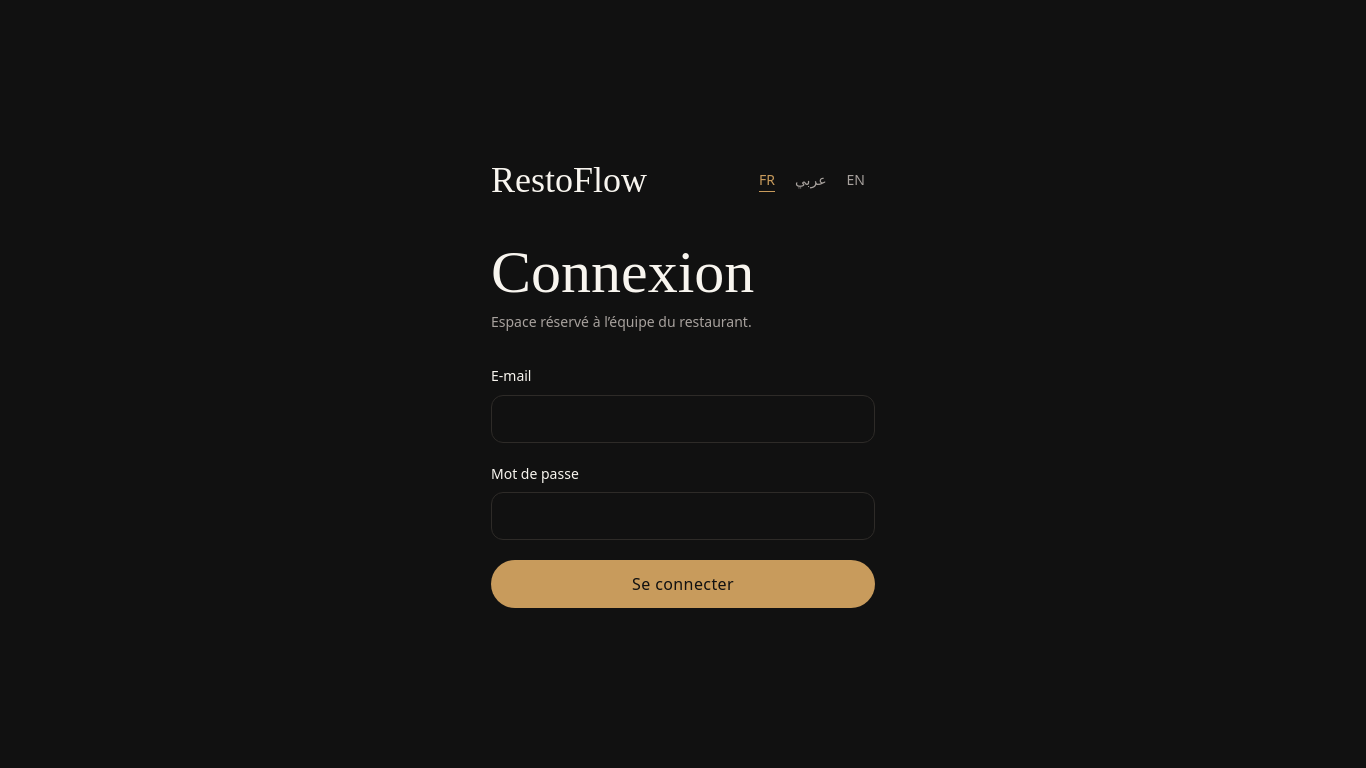
Test case: admin access › sends anonymous visitors to the login page, then back after logging in
This screenshot has width=1366, height=768.
Expected: the heading "Connexion" is shown, [491,239,754,305]
Type "owner@example.com" into the field labelled "E-mail" at (683, 419), box [491,395,875,443]
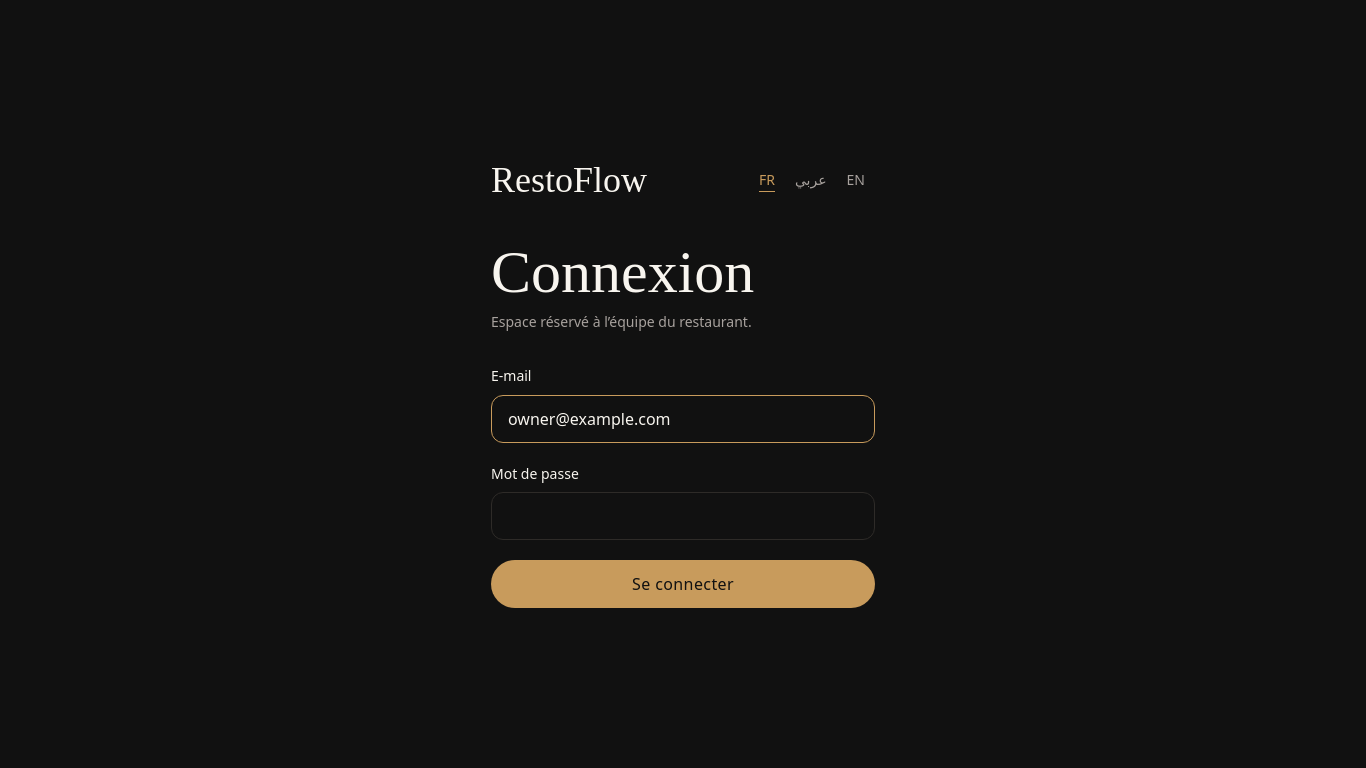
Type "wrong" into the password field labelled "Mot de passe" at (683, 516), box [491,492,875,540]
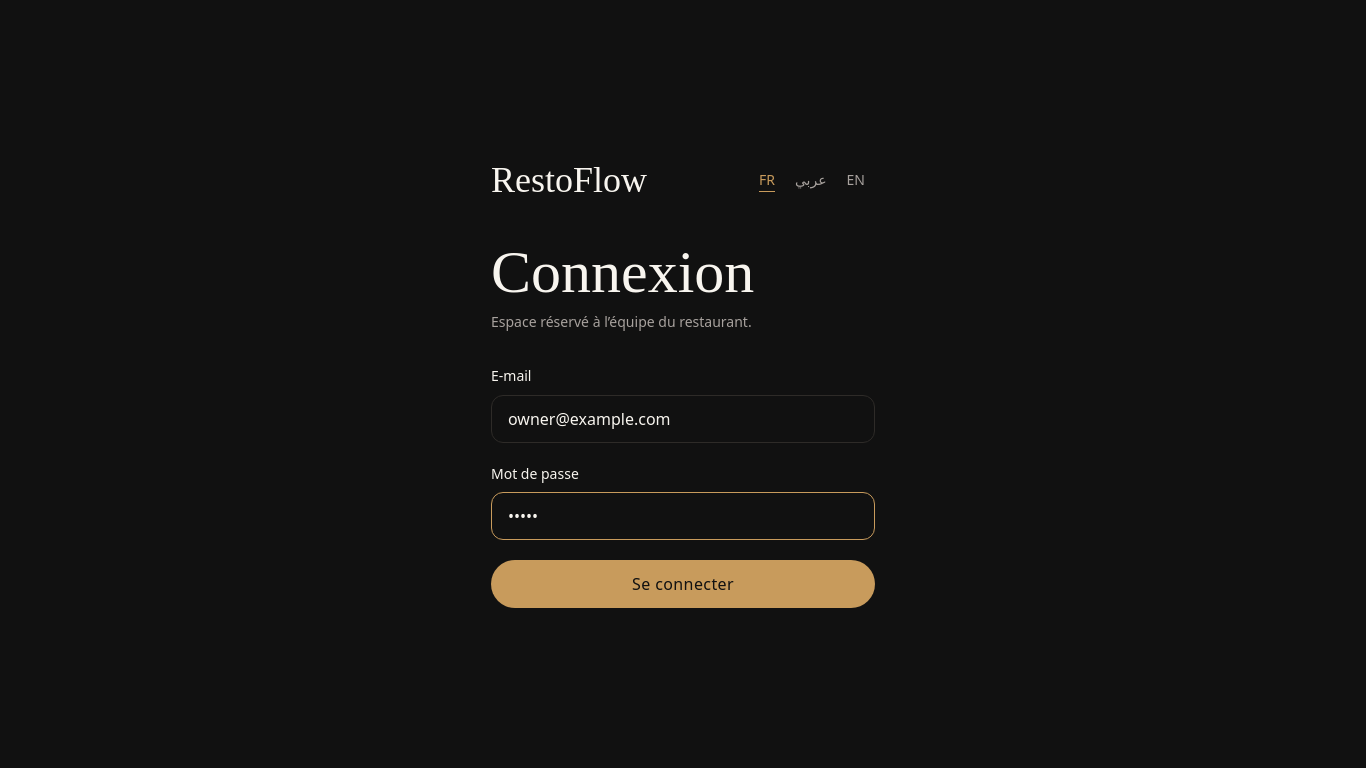
Click the button "Se connecter" at (683, 584), box [491,560,875,608]
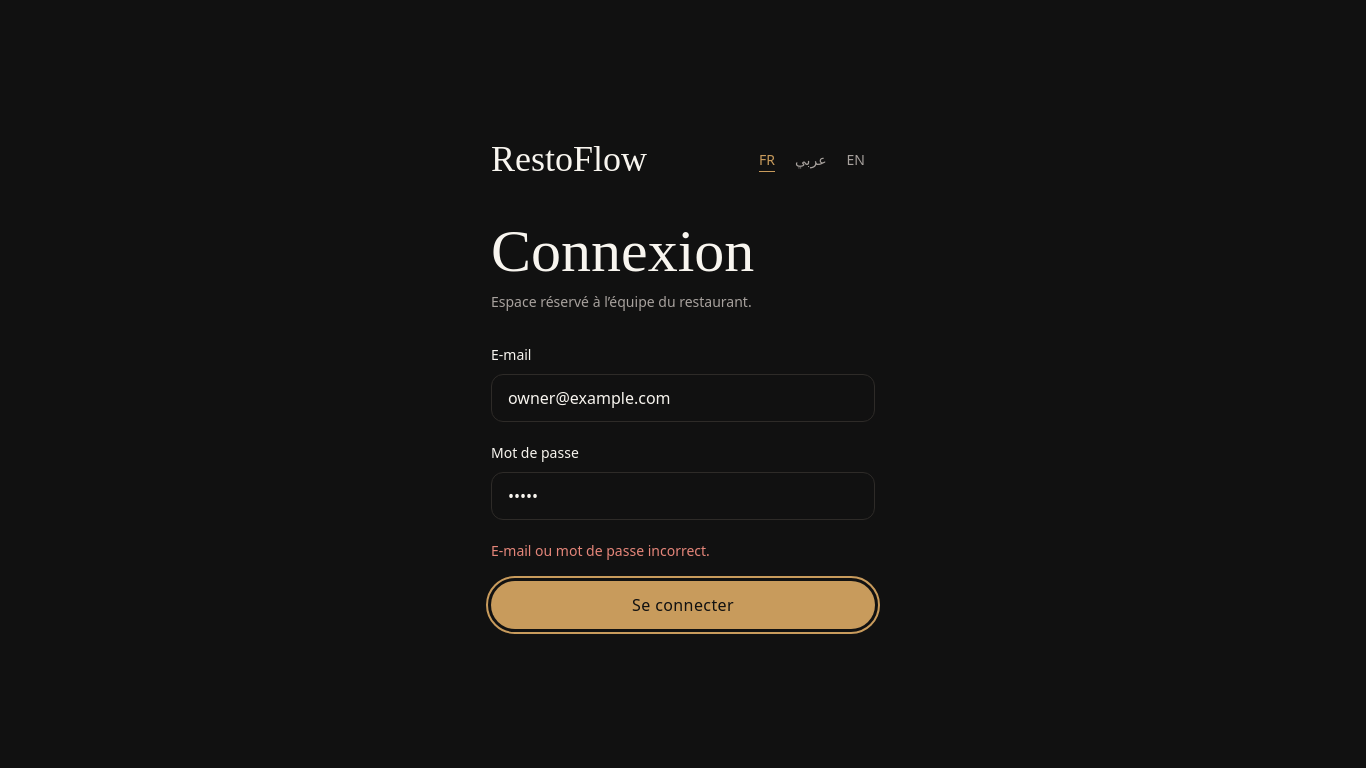
Now the text "E-mail ou mot de passe incorrect." is shown, box [491,541,710,560]
Type "right-password" into the password field labelled "Mot de passe" at (683, 496), box [491,472,875,520]
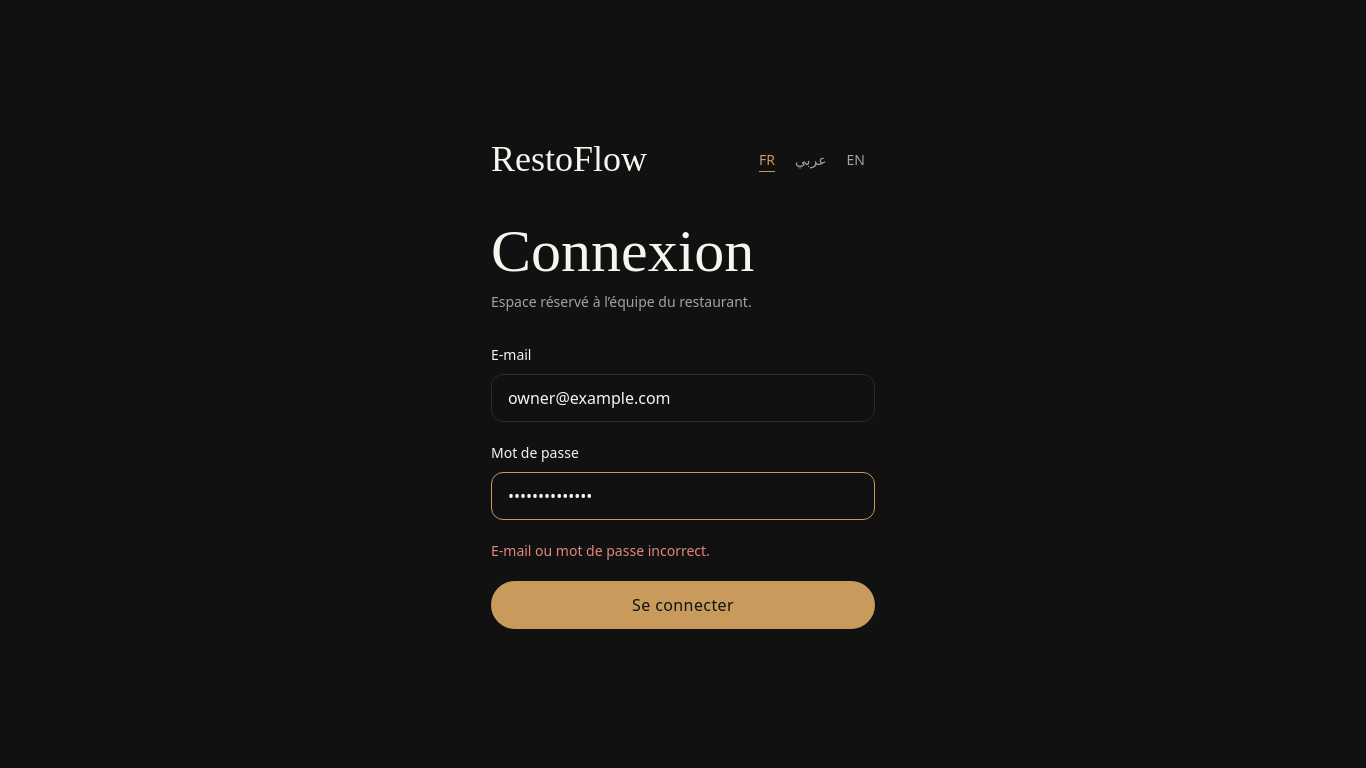
Click the button "Se connecter" at (683, 605), box [491,581,875,629]
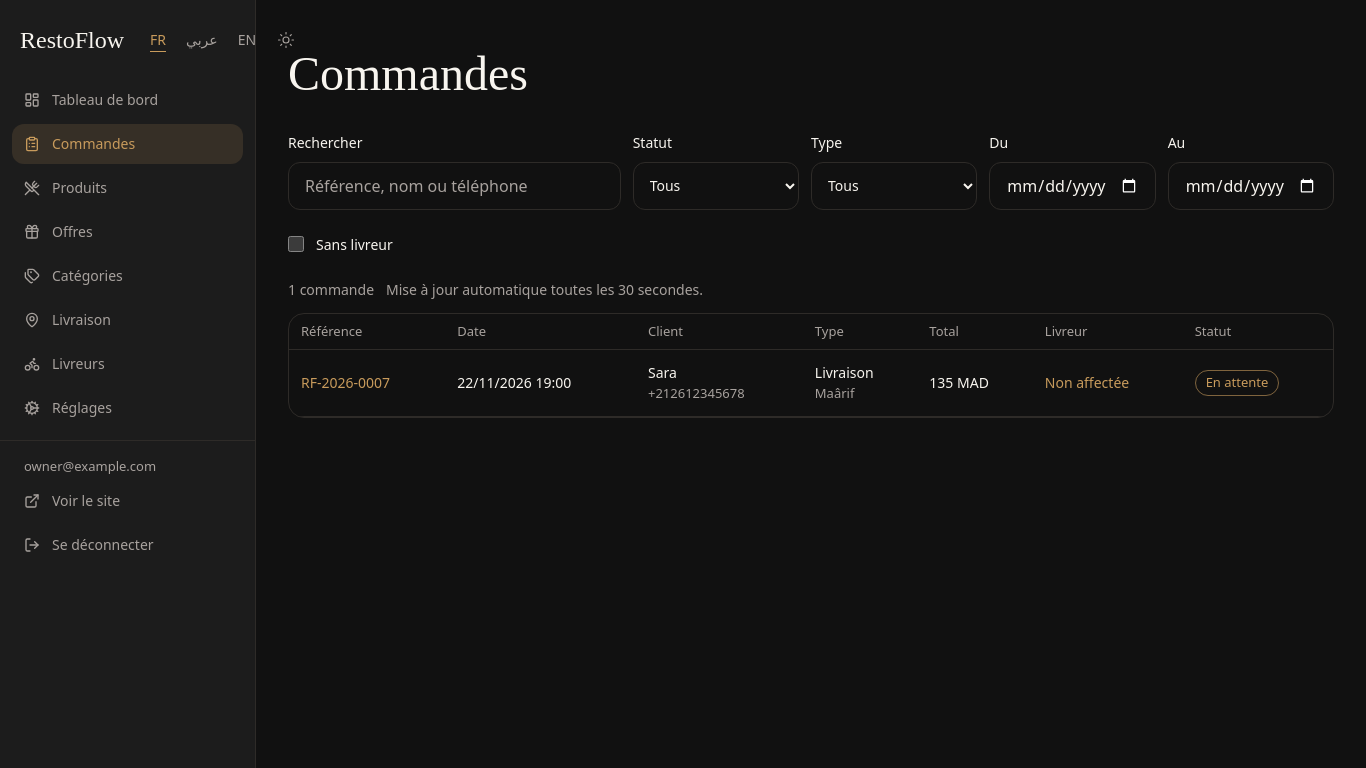
Now the heading "Commandes" is shown, box [288,48,528,100]
